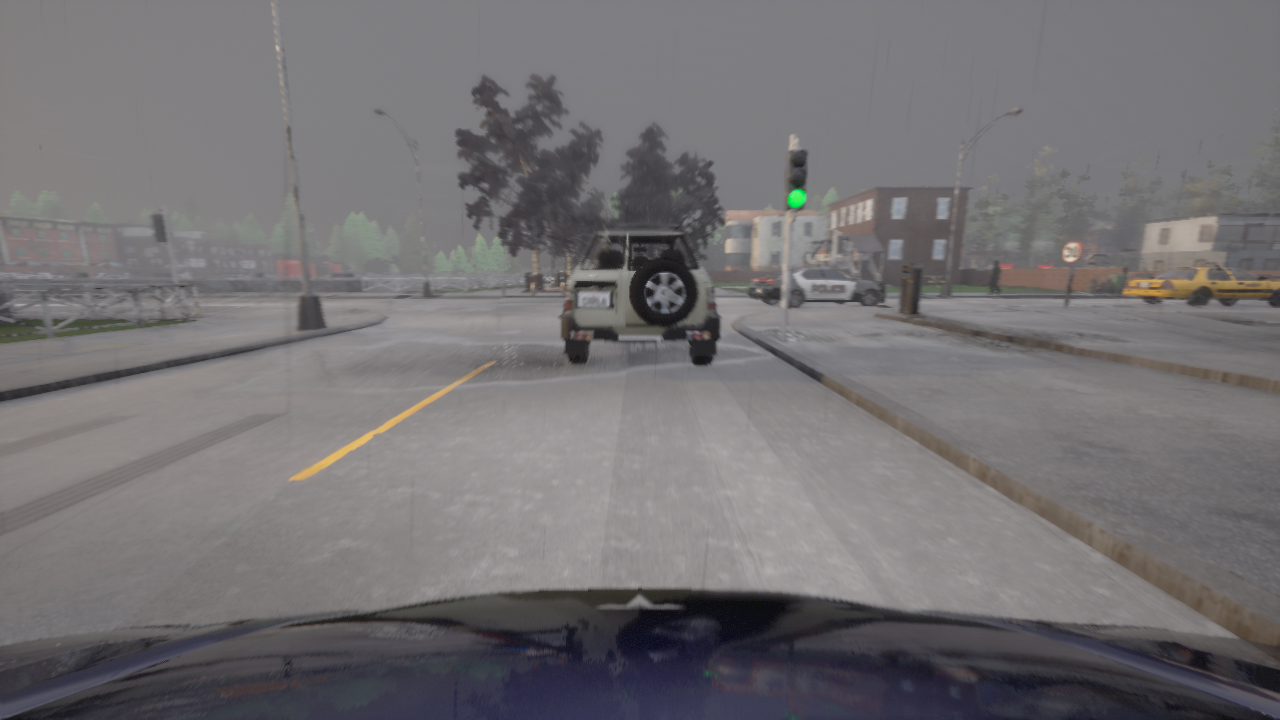cyclist: (0, 588, 1279, 719), (559, 224, 720, 364), (1123, 263, 1279, 306), (747, 264, 885, 307)
pedestrian: (988, 261, 1000, 293)
